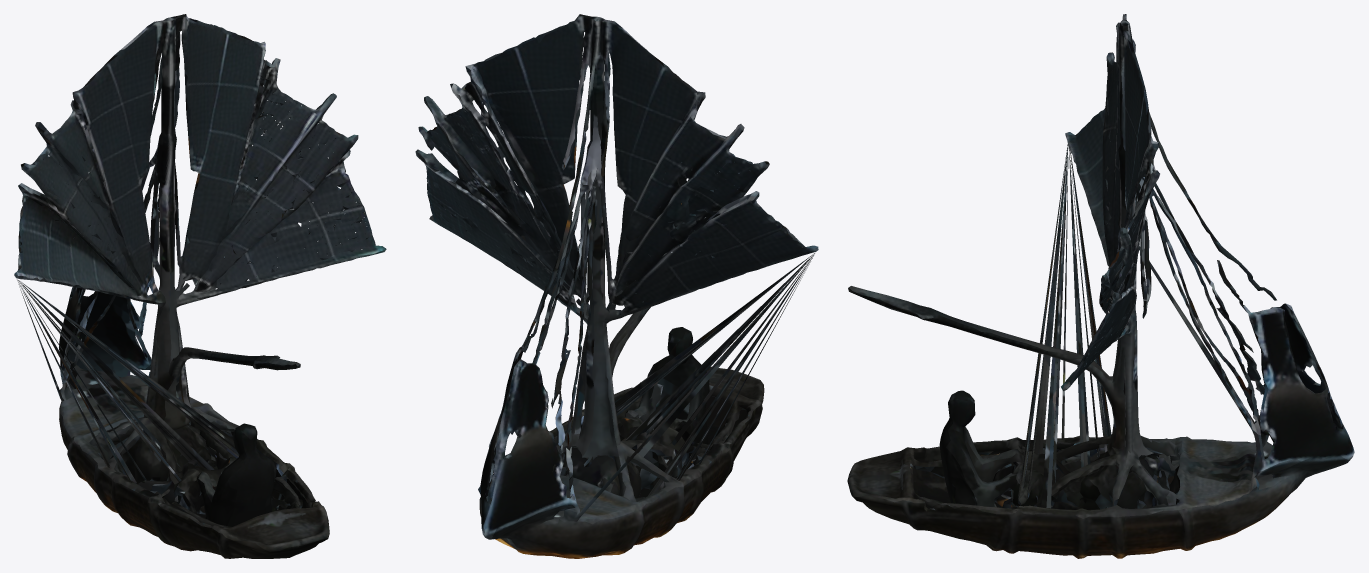
The model's file is barco3d.glb.
3 renders of one model, left to right at view 1: azimuth 30°, elevation 25°; view 2: azimuth 150°, elevation 25°; view 3: azimuth 270°, elevation 25°, orthographic. The views are drawn at different scales.
Visible parts, largest first — view 1: tmpry7snmj0.ply; view 2: tmpry7snmj0.ply; view 3: tmpry7snmj0.ply.
Part boxes in pixels (x1=…): tmpry7snmj0.ply: x1=14, y1=14, x2=386, y2=558; tmpry7snmj0.ply: x1=415, y1=14, x2=818, y2=558; tmpry7snmj0.ply: x1=847, y1=14, x2=1354, y2=558.
Size of the model in its own units: 1.55 by 1.96 by 1.74.
1 material, 1 textured.
